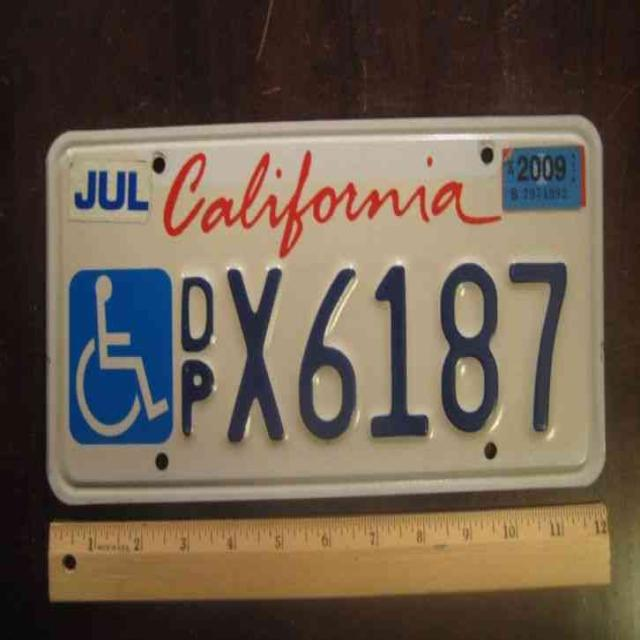symbol_of_access: (69, 271, 171, 441)
